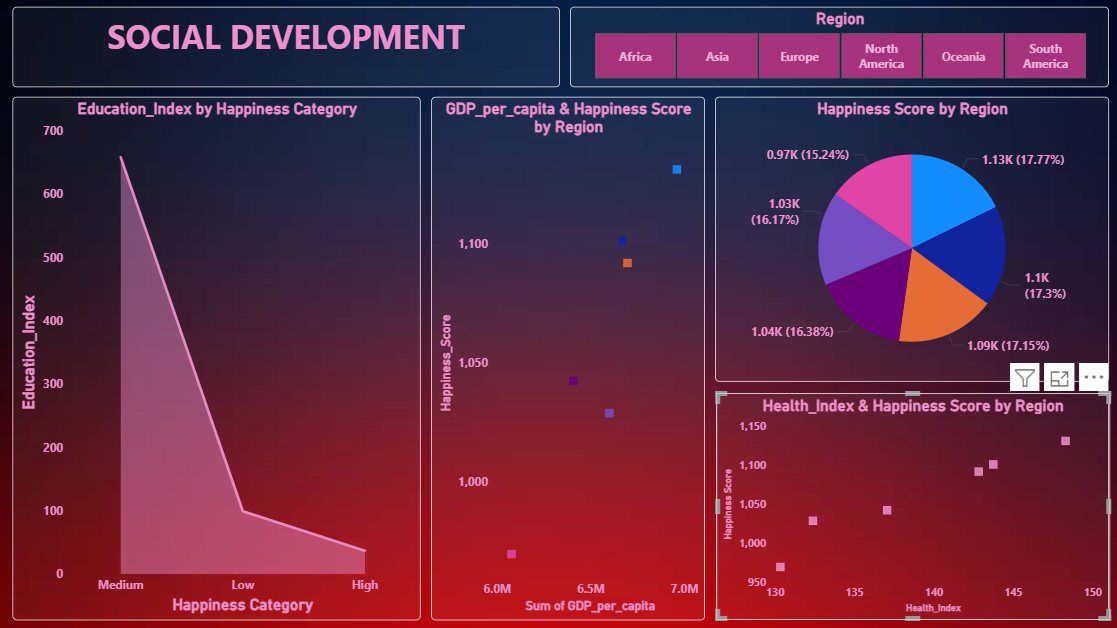

What the dashboard file says about the page in this screenshot:
{"tool":"powerbi","page":{"name":"Social_Development ","canvas":[1280,720],"ordinal":2},"visuals":[{"type":"areaChart","title":"Education_Index by Happiness Category","fields":{"Y":["Sum(Social_economic_indicators.Education_Index)"],"Category":["Social_economic_indicators.Happiness Category"]},"box":[13.7,112.5,466.6,598.3],"z":0},{"type":"textbox","box":[13.7,9.6,625.7,91.9],"z":1000},{"type":"scatterChart","title":"Health_Index & Happiness Score by Region","fields":{"X":["Sum(Social_economic_indicators.Health_Index)"],"Y":["Sum(Social_economic_indicators.Happiness Score)"],"Category":["Social_economic_indicators.Region"]},"box":[819.2,451.5,448.7,259.3],"z":2000},{"type":"slicer","title":"Region","fields":{"Values":["Social_economic_indicators.Region"]},"box":[651.8,9.6,616.1,91.9],"z":3000},{"type":"scatterChart","title":"GDP_per_capita & Happiness Score by Region","fields":{"X":["Sum(Social_economic_indicators.GDP_per_capita)"],"Y":["Sum(Social_economic_indicators.Happiness Score)"],"Series":["Social_economic_indicators.Region"]},"box":[492.6,112.5,312.9,598.3],"z":4000},{"type":"pieChart","title":"Happiness Score by Region","fields":{"Category":["Social_economic_indicators.Region"],"Y":["Sum(Social_economic_indicators.Happiness Score)"]},"box":[817.8,112.5,450.1,325.2],"z":5000}]}

Visuals, with their boxes in screenshot pixels (x1, y1, x2, y2), scaled from the page's 1280x720 canvas onto the 1117x628 screenshot:
"Education_Index by Happiness Category" areaChart: {"x1": 12, "y1": 98, "x2": 419, "y2": 620}
textbox: {"x1": 12, "y1": 8, "x2": 558, "y2": 89}
"Health_Index & Happiness Score by Region" scatterChart: {"x1": 715, "y1": 394, "x2": 1106, "y2": 620}
"Region" slicer: {"x1": 569, "y1": 8, "x2": 1106, "y2": 89}
"GDP_per_capita & Happiness Score by Region" scatterChart: {"x1": 430, "y1": 98, "x2": 703, "y2": 620}
"Happiness Score by Region" pieChart: {"x1": 714, "y1": 98, "x2": 1106, "y2": 382}
